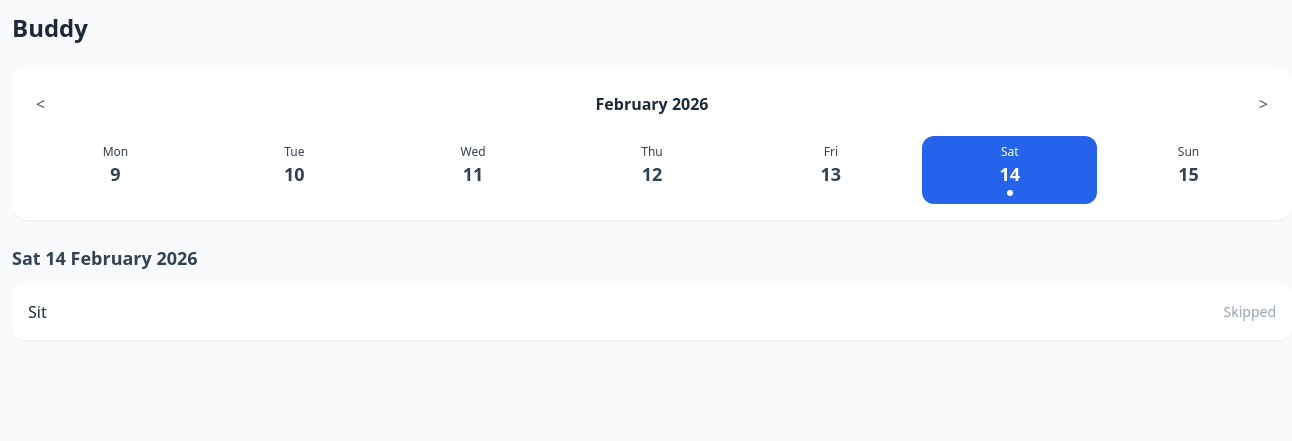
Test case: Progress › expanded card shows notes
The image size is (1292, 441).
Click the text "Sit". click: (37, 312)
box: [28,300,47,324]
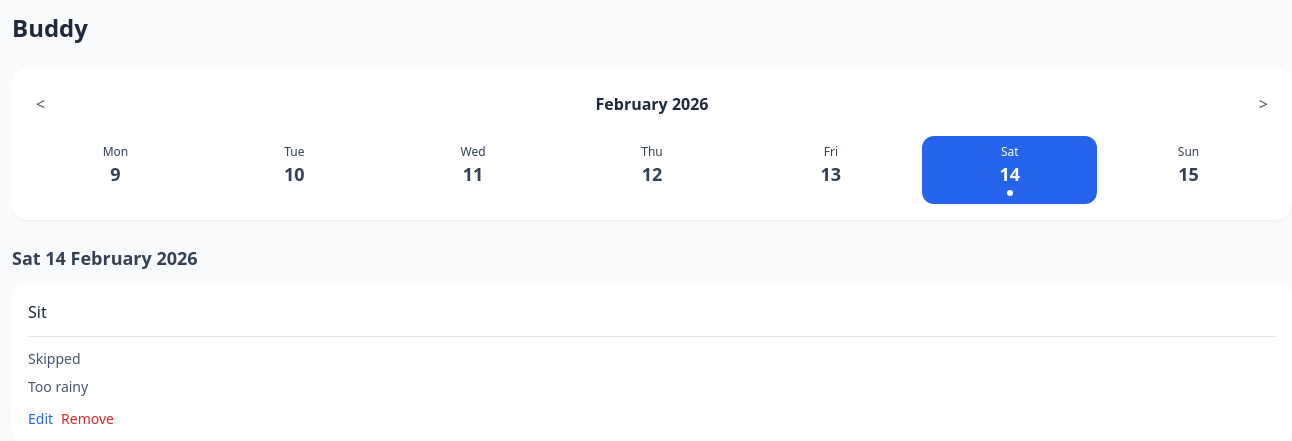
Expected: the text "Skipped" is shown, [28,349,80,368]
Result: the text "Too rainy" is shown at [28,377,88,396]
